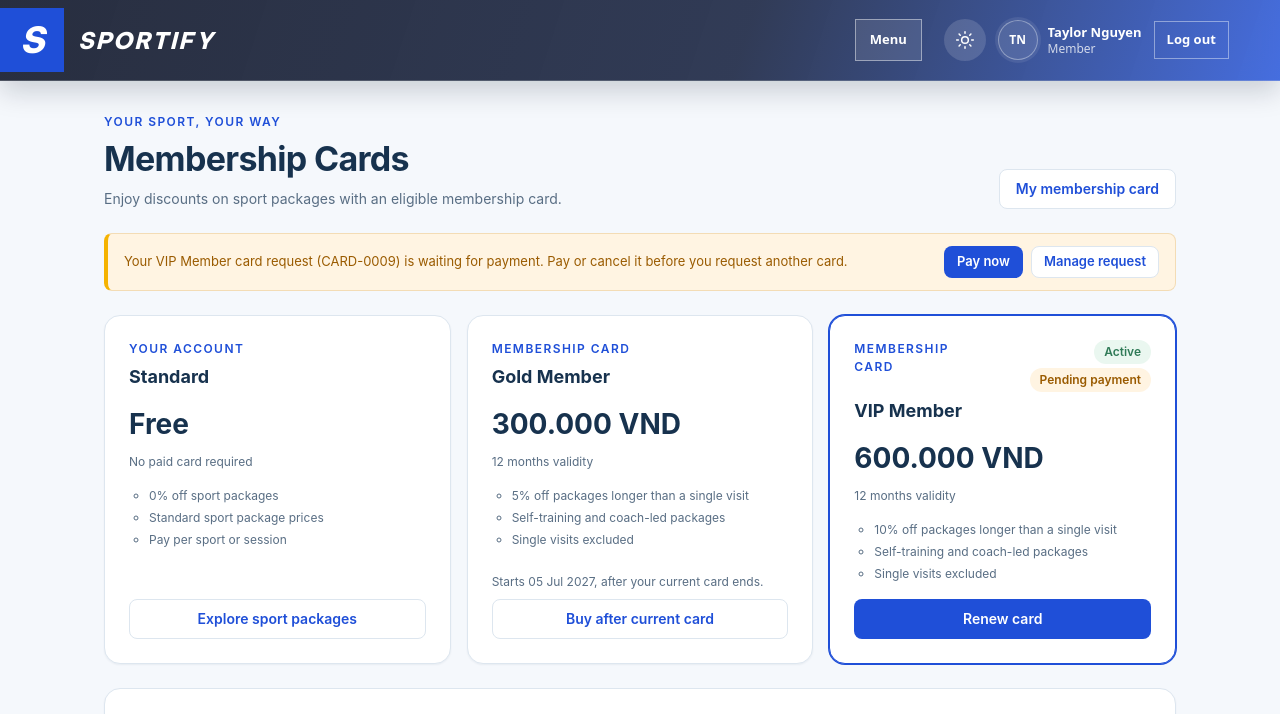
Test case: FE-04 Membership Cards (F1-11) › TC-FE04-036 a second request while one is pending shows the backend error
The width and height of the screenshot is (1280, 714).
Expected: the list named "Membership card tiers" is shown, x1=104 y1=315 x2=1176 y2=664
Expected: the text "Your VIP Member card request (CARD-0009) is waiting for payment" is shown, x1=124 y1=252 x2=848 y2=272
Click the button "Buy after current card": (640, 619) x1=492 y1=599 x2=788 y2=639
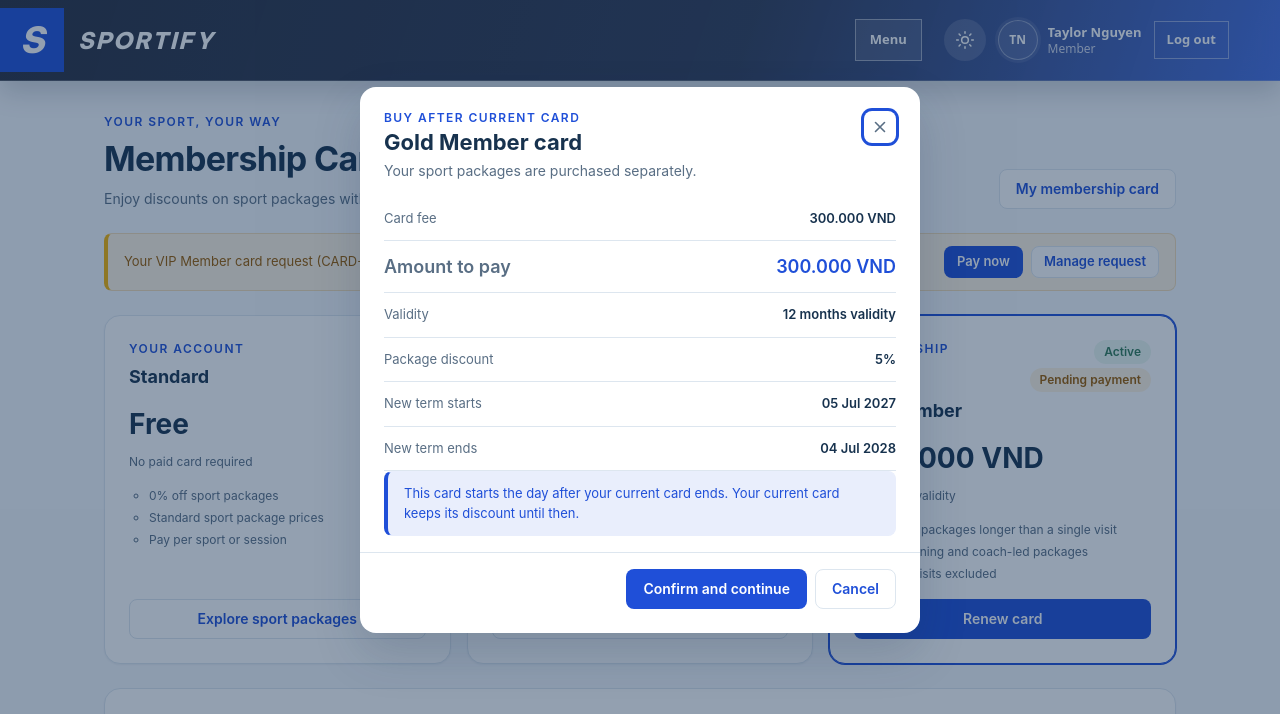
Click the button "Confirm and continue": (717, 589) x1=626 y1=569 x2=807 y2=609
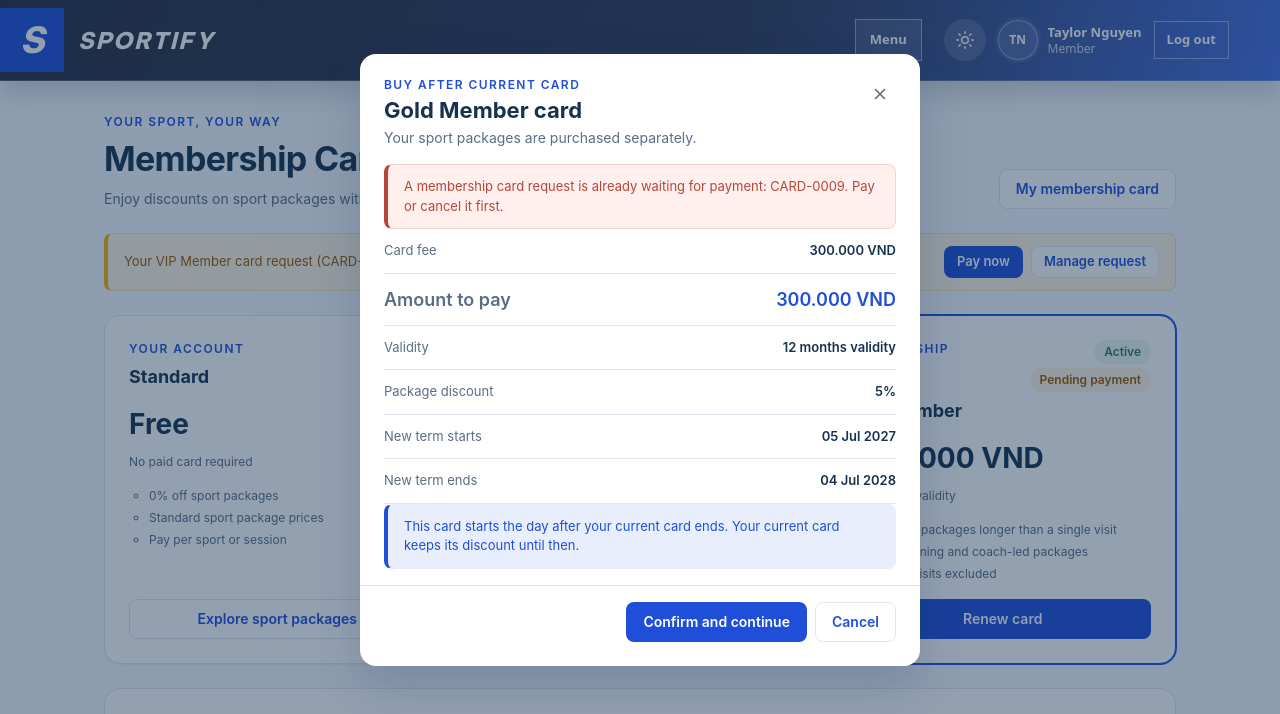
Now the dialog is shown, box x1=360 y1=54 x2=920 y2=666
Now the button "Confirm and continue" is enabled, box x1=626 y1=602 x2=807 y2=642
Now the message shows "A membership card request is already waiting for payment: CARD-0009. Pay or cancel it first.", box x1=404 y1=178 x2=875 y2=214
